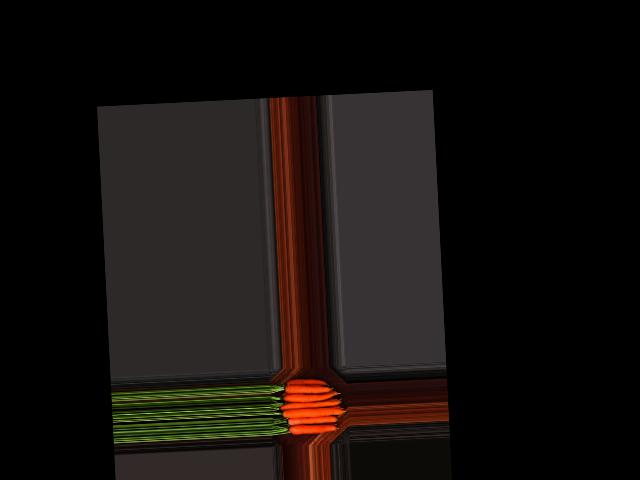carrot: (284, 374, 333, 389)
